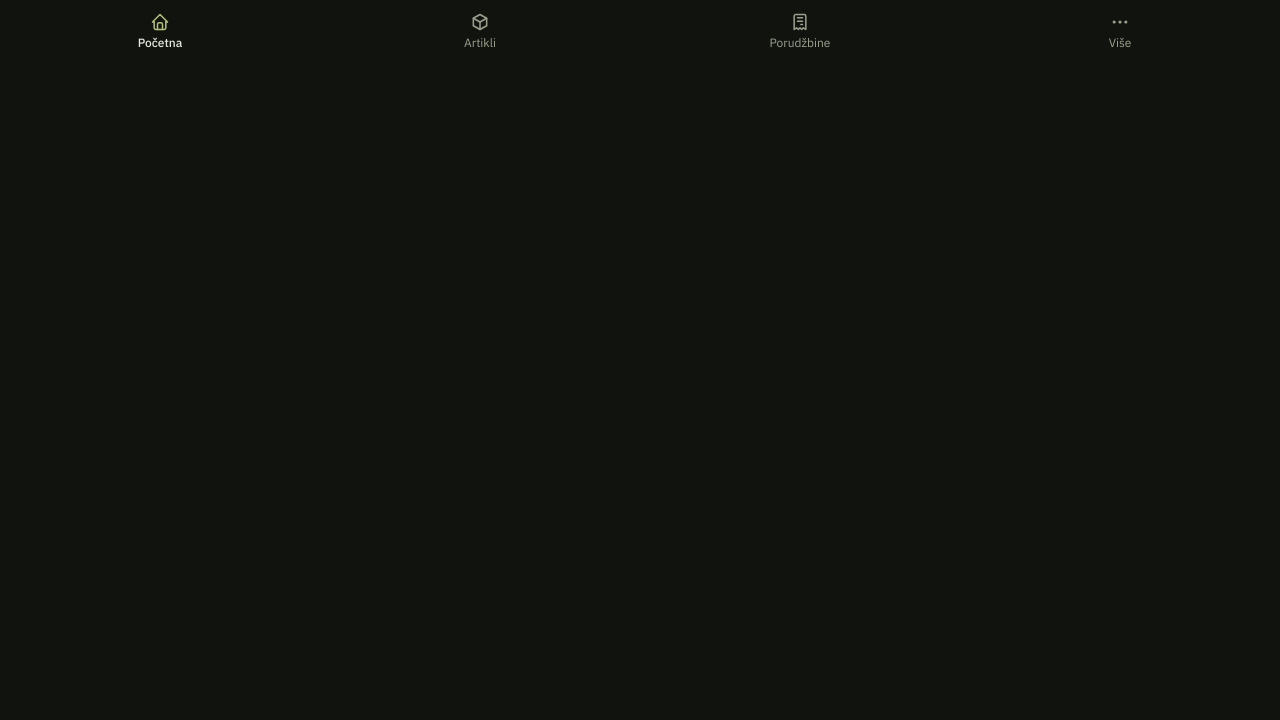
PhoneTabs › More_Clicked_ShowsOtherScreensAndAccount
The width and height of the screenshot is (1280, 720).
What coordinates should you click on to do the following:
click the button "Više"
I would click on:
 (1120, 32)
Its box is [960,0,1279,64].
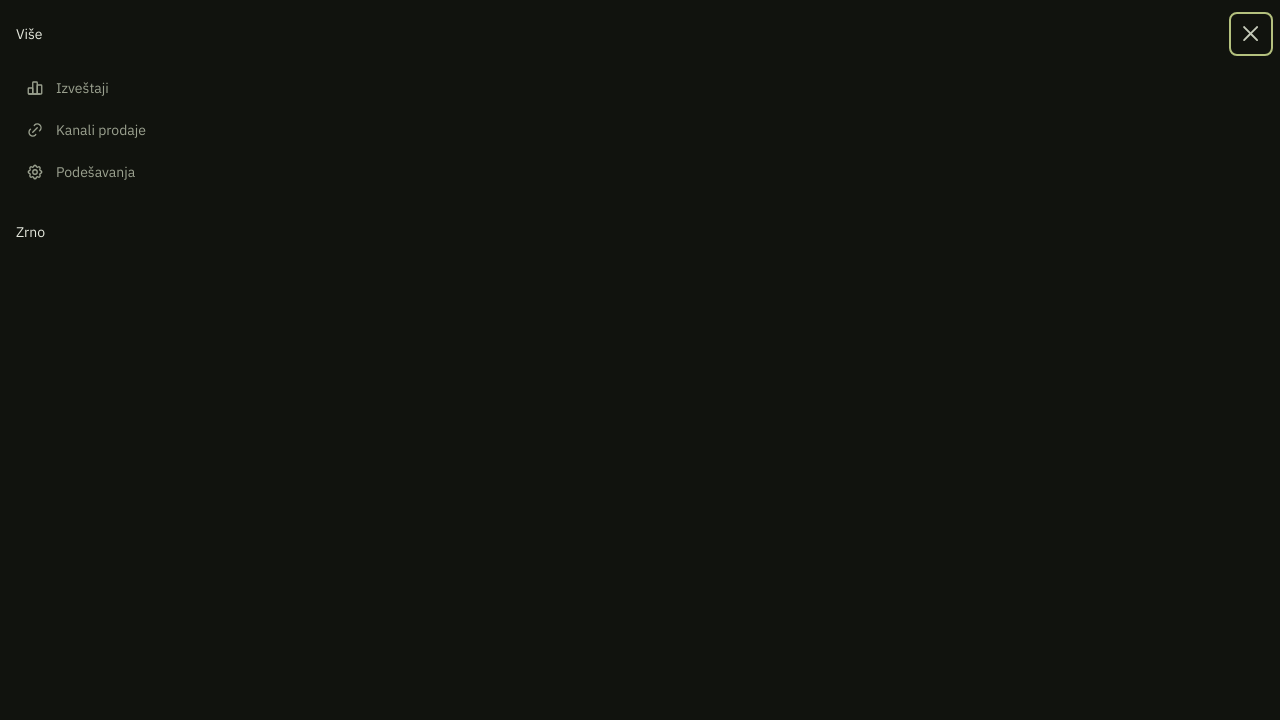
Check: the link "Izveštaji" is shown, box [26,79,109,97]
Check: the link "Podešavanja" is shown, box [26,163,135,181]
Check: the text "Zrno" is shown, box [16,223,45,241]
